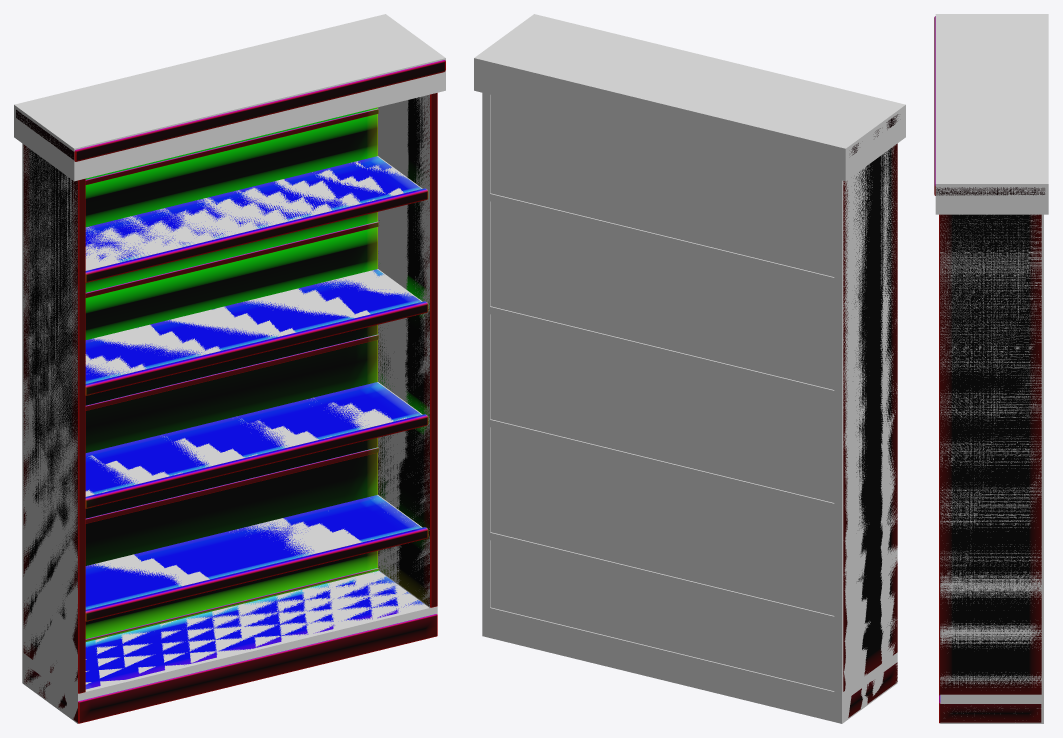
Rendered from prop_display_wall.fbx.
The picture shows the model from 3 angles, left to right: view 1: azimuth 30°, elevation 25°; view 2: azimuth 150°, elevation 25°; view 3: azimuth 270°, elevation 25°; orthographic projection. The views are drawn at different scales.
Visible parts, largest first — view 1: prop_display_wall, COL_4, COL_1, COL_0, COL_2, COL_8, COL_7, COL_6, COL_5; view 2: COL_3, COL_4, COL_1, prop_display_wall, COL_0, COL_2, COL_5, COL_7, COL_8, COL_6; view 3: prop_display_wall, COL_4, COL_2, COL_0.
Boxes of the visible parts, box(x1,y1,x2,y2) form: prop_display_wall: box(16, 60, 445, 723); COL_4: box(14, 14, 445, 181); COL_1: box(22, 143, 77, 693); COL_0: box(22, 570, 437, 723); COL_2: box(378, 94, 430, 607); COL_8: box(85, 156, 422, 270); COL_7: box(85, 269, 422, 377); COL_6: box(85, 382, 422, 496); COL_5: box(89, 495, 422, 586); COL_3: box(490, 95, 834, 690); COL_4: box(474, 14, 905, 181); COL_1: box(834, 145, 897, 693); prop_display_wall: box(843, 114, 898, 717); COL_0: box(482, 606, 897, 723); COL_2: box(482, 93, 490, 607); COL_5: box(490, 532, 834, 623); COL_7: box(490, 306, 834, 397); COL_8: box(490, 193, 834, 285); COL_6: box(490, 419, 834, 510); prop_display_wall: box(934, 16, 1044, 723); COL_4: box(935, 14, 1048, 214); COL_2: box(940, 214, 1043, 695); COL_0: box(940, 695, 1043, 723).
Size of the model in its own units: 1.55 by 2.31 by 0.44.
